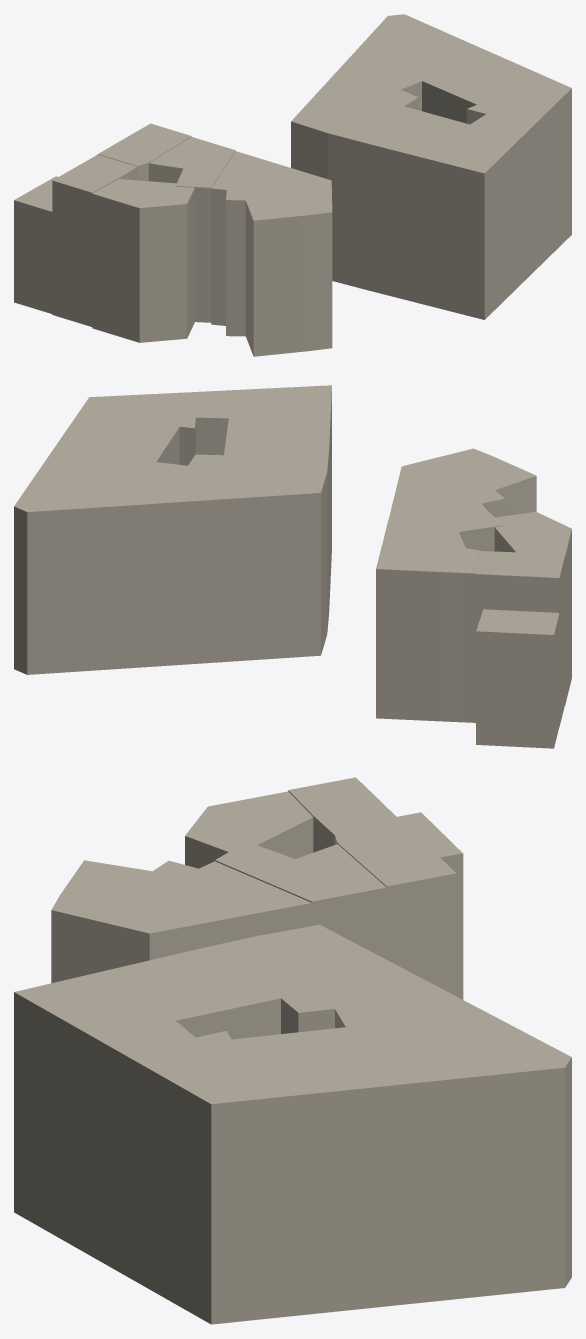
Rendered from birgu_60_26_far.glb.
The picture shows the model from 3 angles, top to bottom: view 1: azimuth 30°, elevation 25°; view 2: azimuth 150°, elevation 25°; view 3: azimuth 270°, elevation 25°; orthographic projection. The views are drawn at different scales.
Parts seen in each view (by area): view 1: geometry_0; view 2: geometry_0; view 3: geometry_0.
Part boxes in pixels (x1,y1,x2,y2): geometry_0: [14, 14, 571, 356]; geometry_0: [14, 385, 571, 748]; geometry_0: [14, 777, 571, 1324].
Size of the model in its own units: 50.96 by 14.93 by 33.56.
